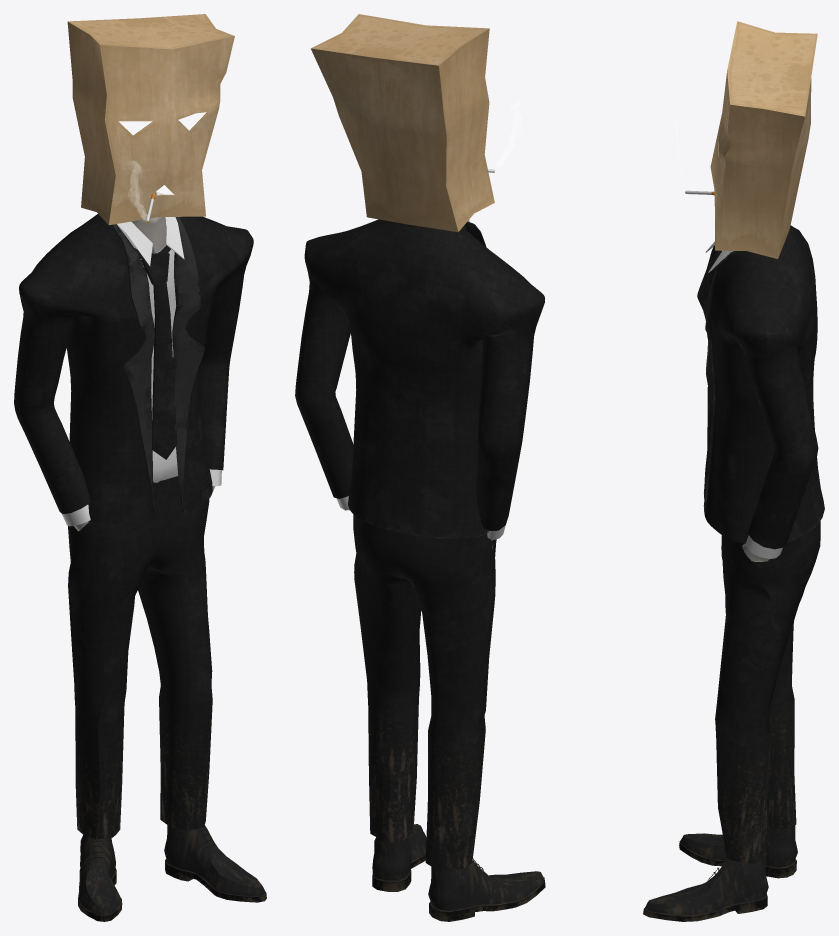
Rendered from anonim.glb.
3 renders of one model, left to right at view 1: azimuth 30°, elevation 25°; view 2: azimuth 150°, elevation 25°; view 3: azimuth 270°, elevation 25°, orthographic. The views are drawn at different scales.
Parts seen in each view (by area): view 1: jacket_low.003, trousers_low.001, bag_low.001, shoes_low.001, tie_low.001, shirt_low.001, Neck_low.001, sleeve_low.001; view 2: jacket_low.003, trousers_low.001, bag_low.001, shoes_low.001; view 3: jacket_low.003, trousers_low.001, bag_low.001, shoes_low.001, sleeve_low.001.
Part boxes in pixels (bbox=[...]): jacket_low.003: bbox=[14, 214, 253, 524]; trousers_low.001: bbox=[68, 476, 212, 839]; bag_low.001: bbox=[67, 14, 234, 225]; shoes_low.001: bbox=[78, 825, 266, 921]; tie_low.001: bbox=[134, 245, 177, 459]; shirt_low.001: bbox=[117, 191, 184, 482]; Neck_low.001: bbox=[131, 217, 166, 253]; sleeve_low.001: bbox=[61, 469, 221, 526]; jacket_low.003: bbox=[295, 219, 544, 538]; trousers_low.001: bbox=[353, 514, 496, 869]; bag_low.001: bbox=[310, 14, 494, 232]; shoes_low.001: bbox=[372, 824, 545, 921]; jacket_low.003: bbox=[697, 225, 824, 549]; trousers_low.001: bbox=[715, 521, 820, 863]; bag_low.001: bbox=[710, 21, 817, 258]; shoes_low.001: bbox=[643, 825, 797, 921]; sleeve_low.001: bbox=[745, 535, 782, 558].
Size of the model in its own units: 0.3909 by 1.3 by 0.2558.
2 materials, 2 textured.
